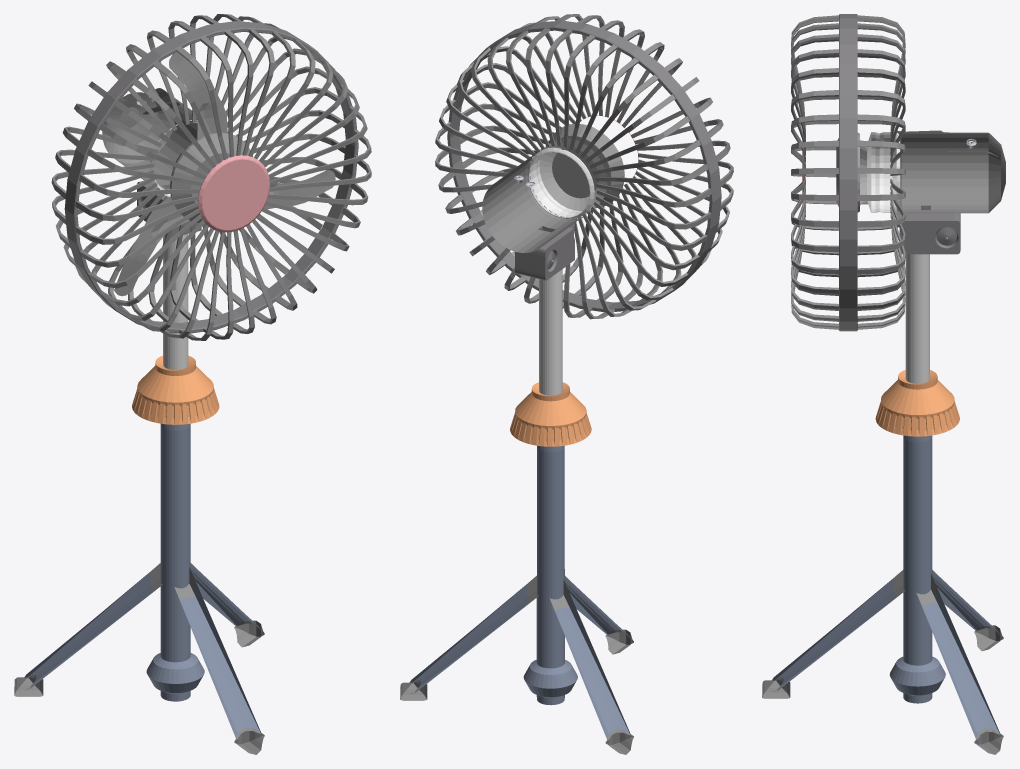
File: FanPrefab.glb
3 renders of one model, left to right at view 1: azimuth 30°, elevation 25°; view 2: azimuth 150°, elevation 25°; view 3: azimuth 270°, elevation 25°, orthographic. The views are drawn at different scales.
Visible parts, largest first — view 1: fan; view 2: fan; view 3: fan.
Boxes of the visible parts, left/top/right/bottom form: fan: left=14, top=14, right=371, bottom=754; fan: left=400, top=14, right=733, bottom=754; fan: left=762, top=14, right=1005, bottom=754.
Bounding box in the file's own units: 11.28 × 26.24 × 8.66.
